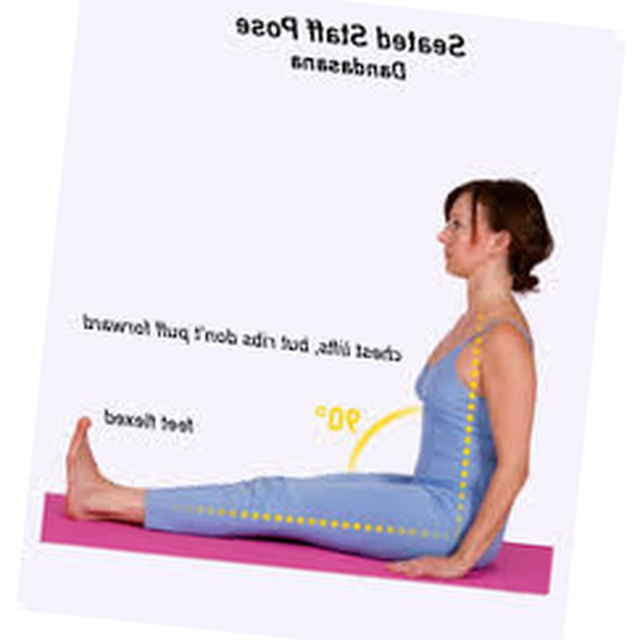Staff_Pose: (63, 179, 557, 579)
